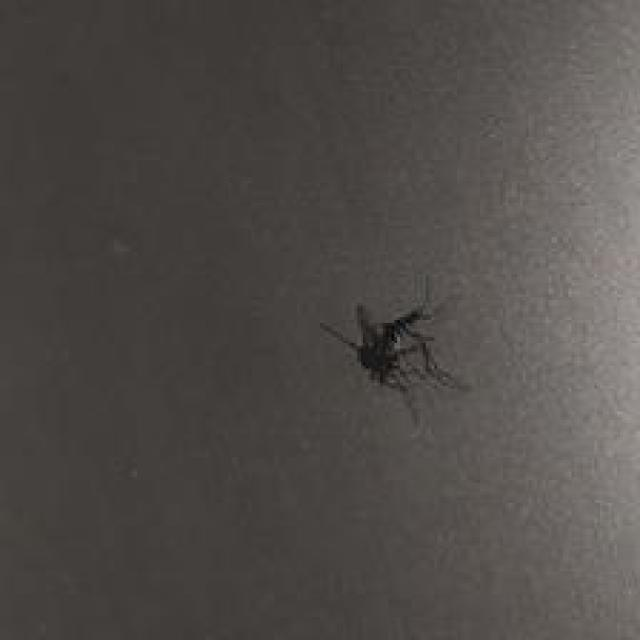Aedes albopictus: (317, 274, 469, 429)
